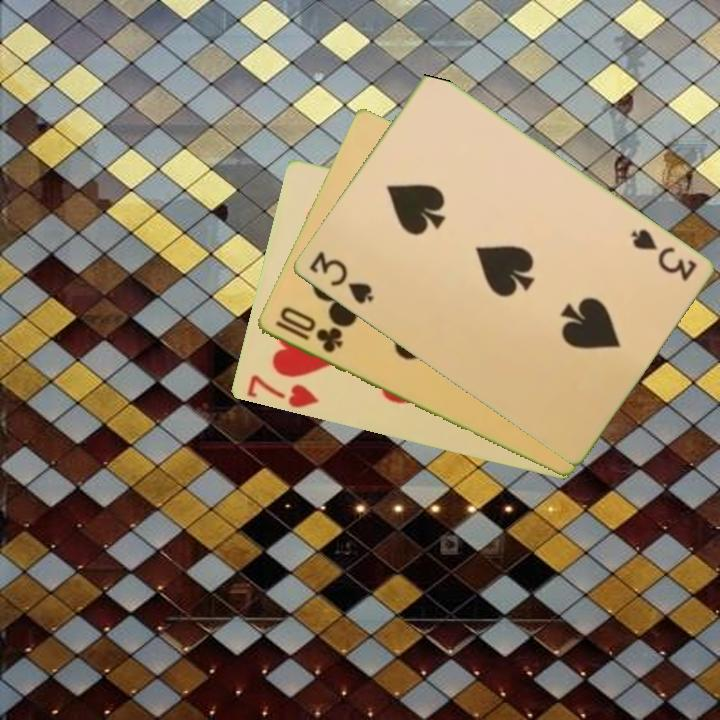10c: (271, 303, 346, 356)
3s: (305, 247, 376, 308), (626, 225, 699, 284)
7h: (243, 371, 322, 411)
